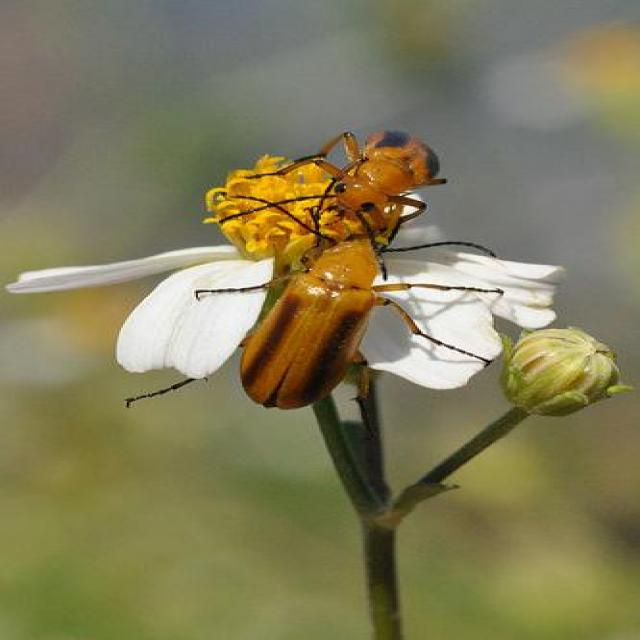BlisterBeetle-Adult-: (179, 217, 498, 427)
